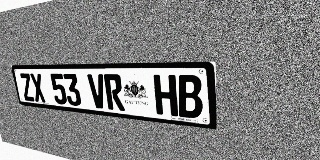3: (63, 74, 82, 106)
5: (50, 74, 68, 105)
B: (176, 75, 203, 119)
H: (153, 75, 178, 117)
R: (103, 74, 125, 111)
V: (87, 74, 108, 109)
X: (29, 73, 46, 103)
Z: (19, 73, 35, 102)
